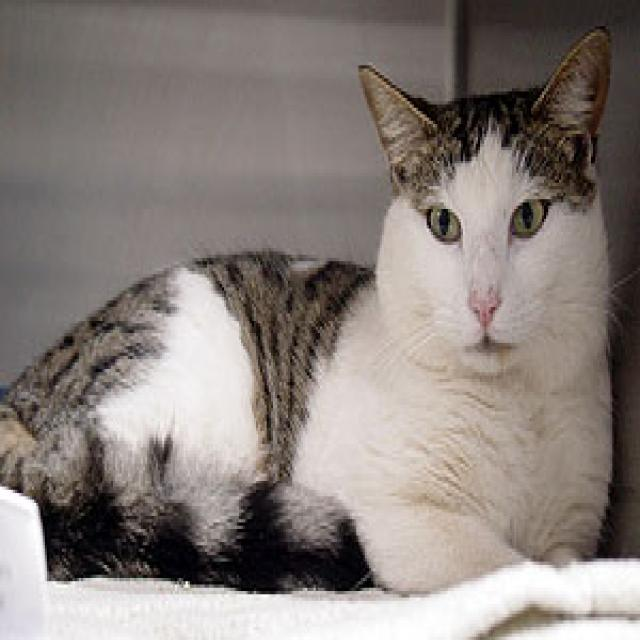cats: (0, 24, 615, 599)
